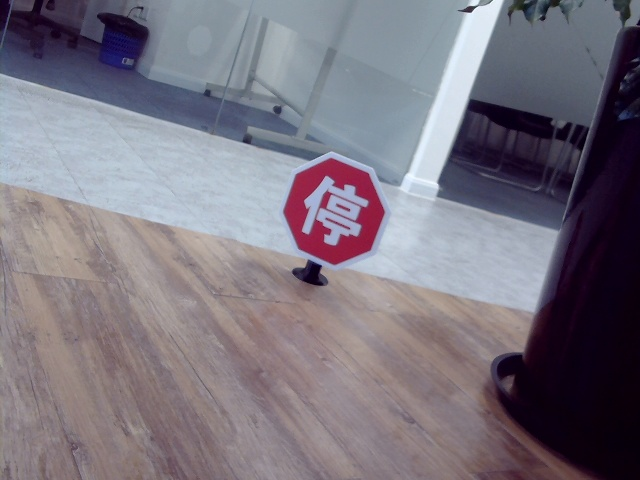stop: (300, 171, 370, 245)
